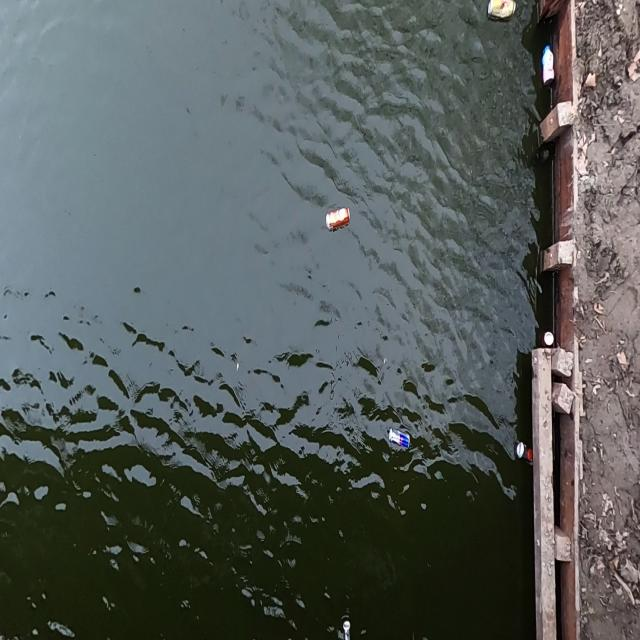Non plastique: (321, 201, 354, 242), (486, 0, 520, 33), (385, 420, 414, 453), (515, 437, 535, 476)
